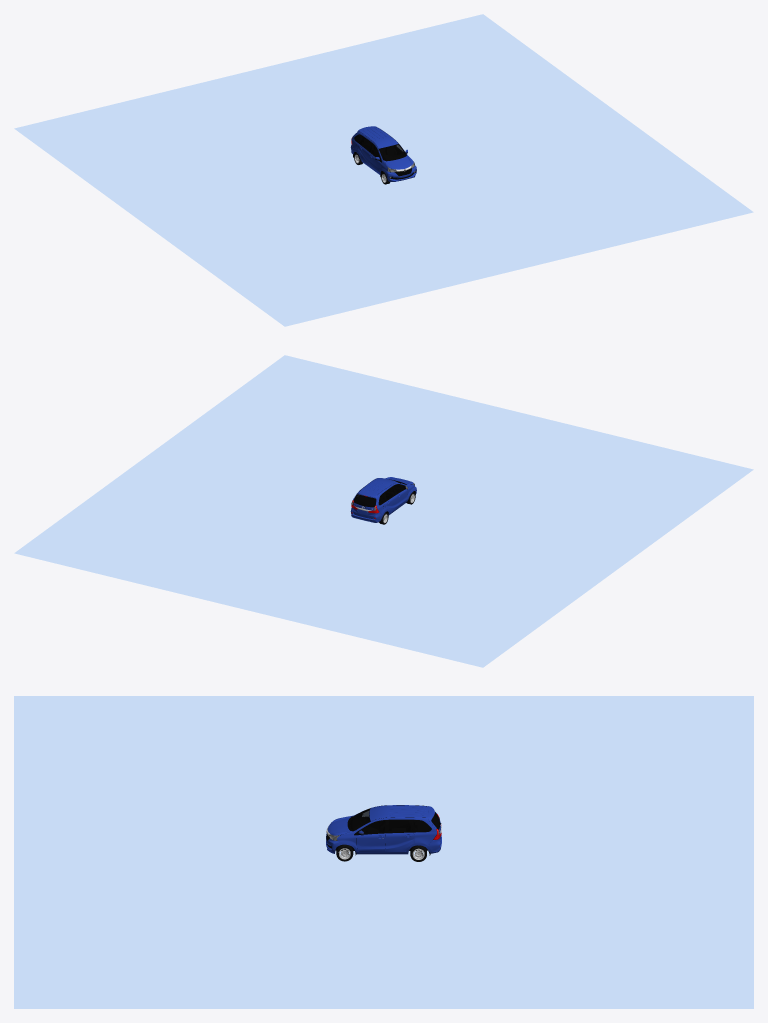
Rendered from avanza.glb.
The picture shows the model from 3 angles, top to bottom: view 1: azimuth 30°, elevation 25°; view 2: azimuth 150°, elevation 25°; view 3: azimuth 270°, elevation 25°; orthographic projection. The views are drawn at different scales.
Parts seen in each view (by area): view 1: floor_beams, Ext_carpaint_Submesh_95042_Root_9.025_Material.069_0, Ext_carpaint_Submesh_95042_Root_9.016_Material.060_0; view 2: floor_beams, Ext_carpaint_Submesh_95042_Root_9.025_Material.069_0; view 3: floor_beams, Ext_carpaint_Submesh_95042_Root_9.025_Material.069_0, Ext_carpaint_Submesh_95042_Root_9.016_Material.060_0, Ext_carpaint_Submesh_95042_Root_9.014_Material.056_0, Ext_carpaint_Submesh_95042_Root_9.018_Material.063_0.
Part boxes in pixels (x1,y1,x2,y2): floor_beams: (14, 14, 753, 326); Ext_carpaint_Submesh_95042_Root_9.025_Material.069_0: (350, 126, 416, 181); Ext_carpaint_Submesh_95042_Root_9.016_Material.060_0: (354, 134, 415, 178); floor_beams: (14, 355, 753, 667); Ext_carpaint_Submesh_95042_Root_9.025_Material.069_0: (350, 477, 416, 522); floor_beams: (14, 696, 753, 1008); Ext_carpaint_Submesh_95042_Root_9.025_Material.069_0: (326, 805, 441, 854); Ext_carpaint_Submesh_95042_Root_9.016_Material.060_0: (329, 808, 440, 840); Ext_carpaint_Submesh_95042_Root_9.014_Material.056_0: (352, 809, 439, 833); Ext_carpaint_Submesh_95042_Root_9.018_Material.063_0: (326, 805, 441, 855).
Size of the model in its own units: 30 by 3.75 by 30.
19 materials, 4 textured.
